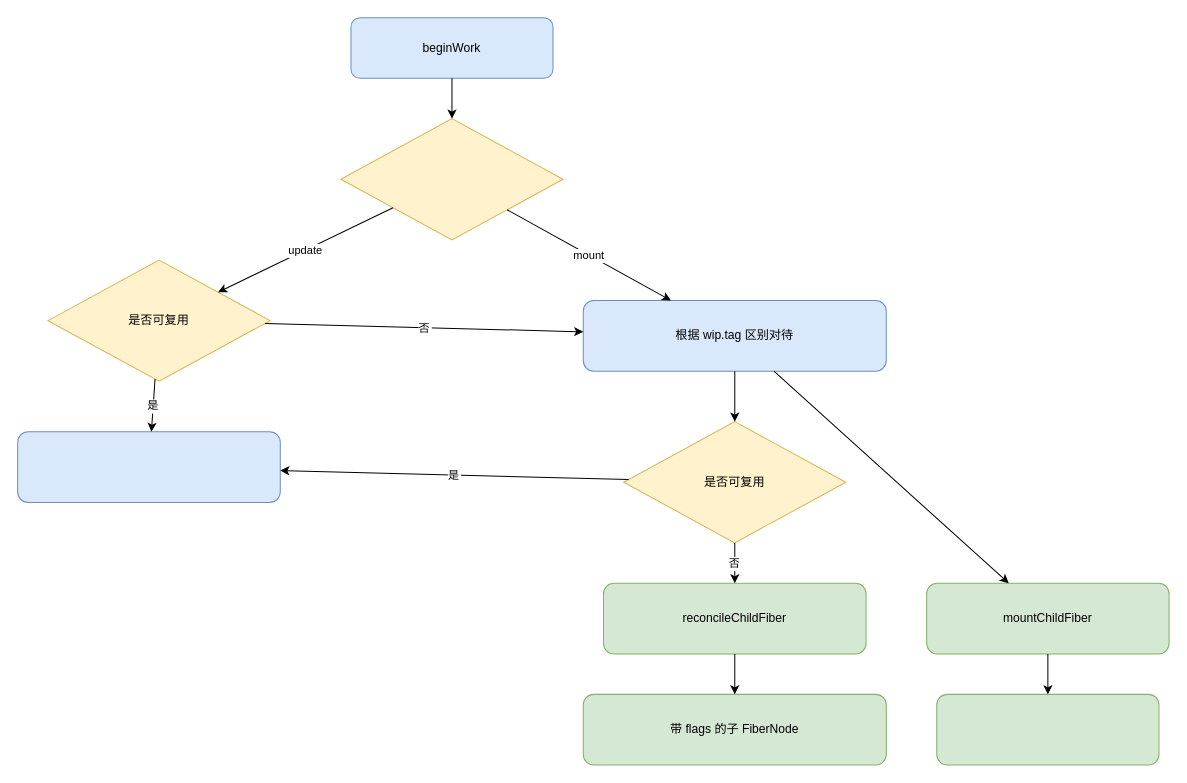
Some shapes in this 1187 by 783 pixel diagram are drawn without their labels. Each missing label, with the centre of its shape:
"update / mount" belongs at pixel 451 179.
"优化路径" belongs at pixel 148 466.
"子 FiberNode" belongs at pixel 1047 729.
